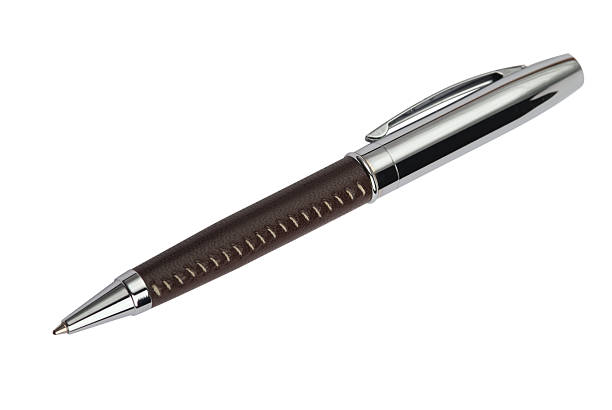pen: (43, 46, 587, 351)
